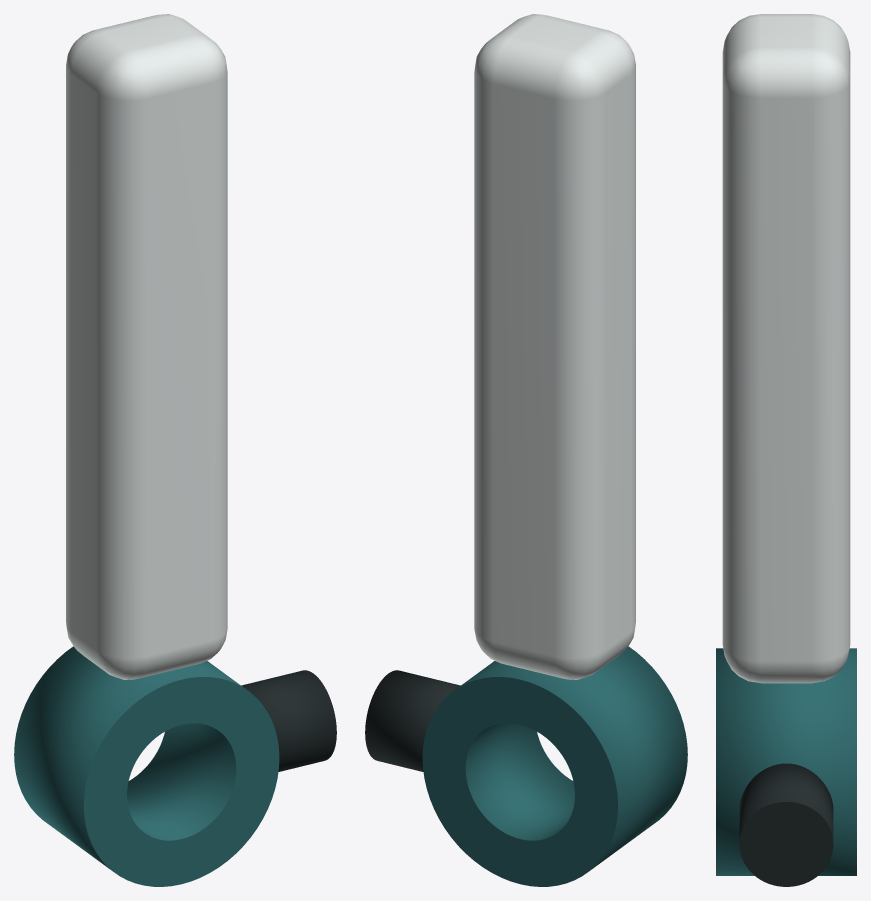
The model's file is probe_arm.glb.
The picture shows the model from 3 angles, left to right: view 1: azimuth 30°, elevation 25°; view 2: azimuth 150°, elevation 25°; view 3: azimuth 270°, elevation 25°; orthographic projection.
Visible parts, largest first — view 1: arm, probe_clamp, clamp_screw; view 2: arm, probe_clamp, clamp_screw; view 3: arm, probe_clamp, clamp_screw.
Part boxes in pixels (box(x1,y1,x2,y2)): arm: box(66, 14, 227, 679); probe_clamp: box(14, 646, 279, 886); clamp_screw: box(241, 670, 336, 771); arm: box(474, 14, 635, 679); probe_clamp: box(422, 646, 687, 886); clamp_screw: box(365, 670, 460, 771); arm: box(722, 14, 850, 683); probe_clamp: box(716, 648, 856, 875); clamp_screw: box(739, 763, 833, 886).
Size of the model in its own units: 0.046 by 0.137 by 0.021.
